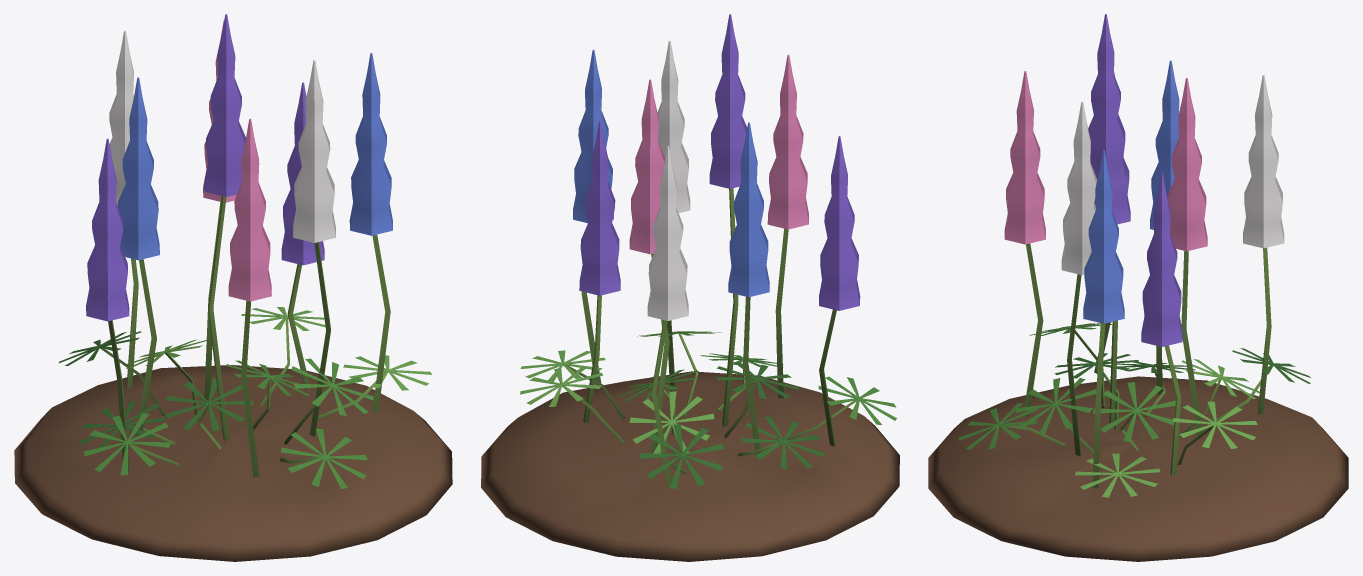
File: lupins.glb
The picture shows the model from 3 angles, left to right: view 1: azimuth 30°, elevation 25°; view 2: azimuth 150°, elevation 25°; view 3: azimuth 270°, elevation 25°; orthographic projection. The views are drawn at different scales.
Parts seen in each view (by area): view 1: lupins; view 2: lupins; view 3: lupins.
Part boxes in pixels (x1=…): lupins: x1=14, y1=14, x2=452, y2=561; lupins: x1=481, y1=14, x2=899, y2=561; lupins: x1=928, y1=14, x2=1348, y2=561.
Bounding box in the file's own units: 0.84 × 0.987 × 0.84.
